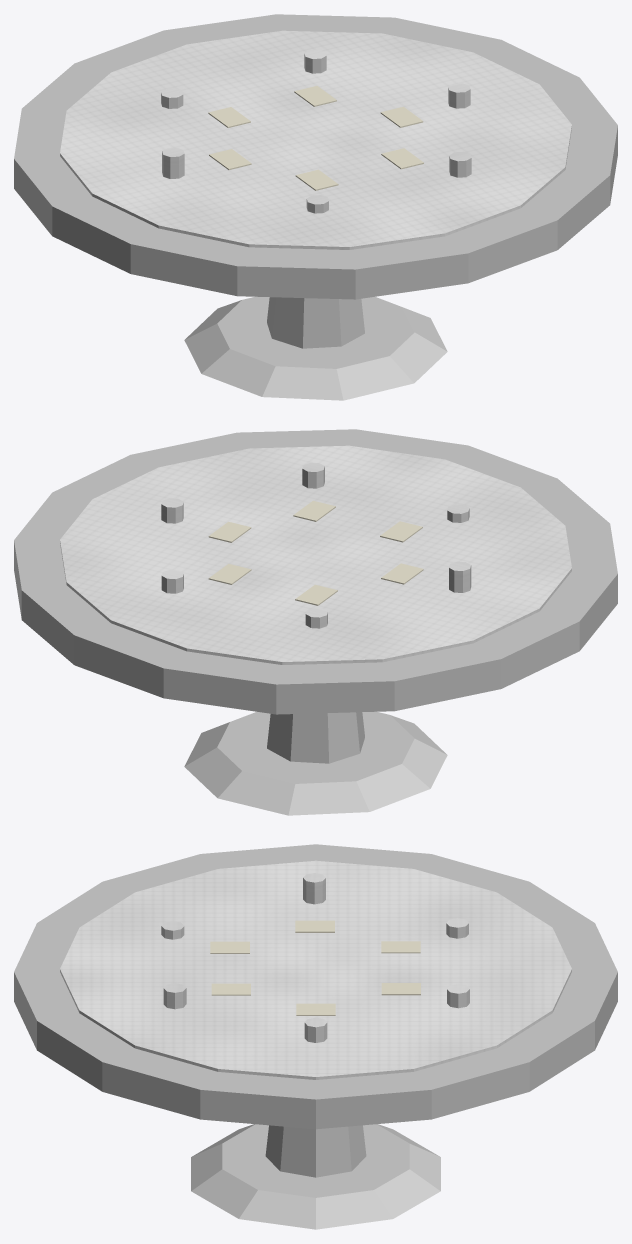
File: poker_table.obj
The picture shows the model from 3 angles, top to bottom: view 1: azimuth 30°, elevation 25°; view 2: azimuth 150°, elevation 25°; view 3: azimuth 270°, elevation 25°; orthographic projection.
Parts seen in each view (by area): view 1: poker_table; view 2: poker_table; view 3: poker_table.
Part boxes in pixels (<box>): poker_table: <box>14,14,617,400</box>; poker_table: <box>14,429,617,815</box>; poker_table: <box>14,844,617,1229</box>.
Size of the model in its own units: 1.84 by 0.7633 by 1.84.
